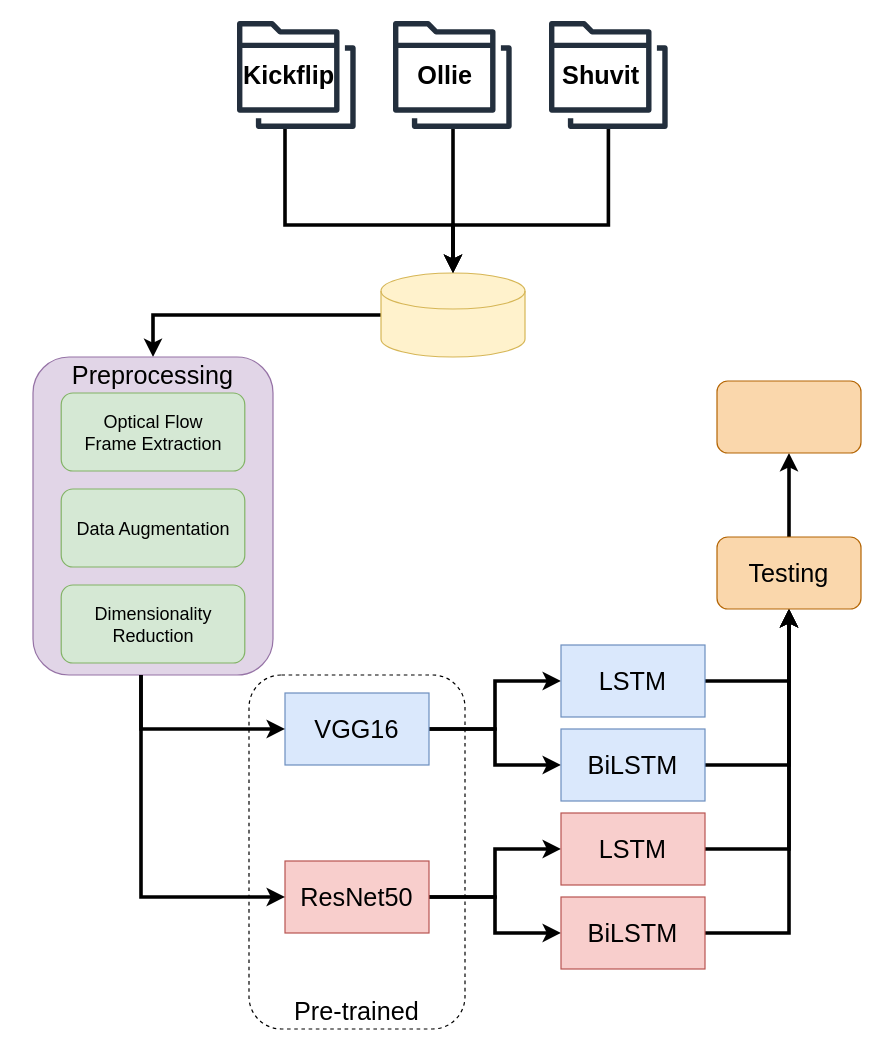
Some shapes in this 882 by 1050 pixel diagram are drawn without their labels. The shapes that lost their labels are listed below. From the top down, each one's centre as x and y in pixels, then its label:
At point 452,314: "Dataset".
At point 788,416: "Evaluation".
